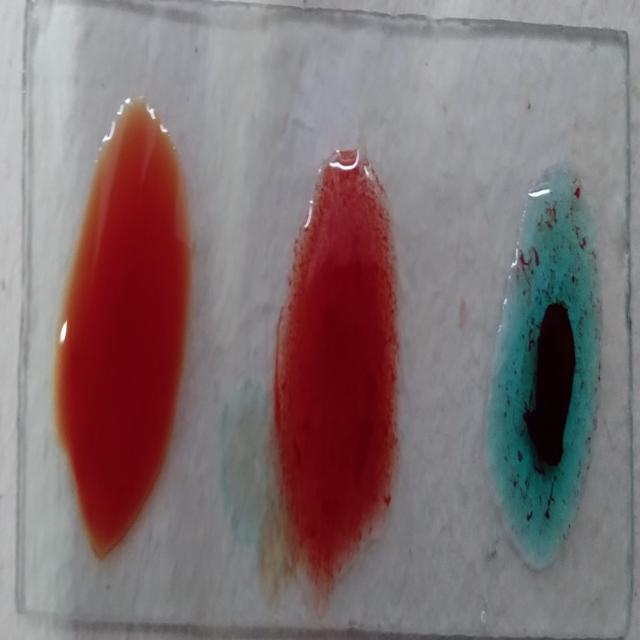A: (494, 165, 595, 557)
D: (284, 145, 398, 610)
